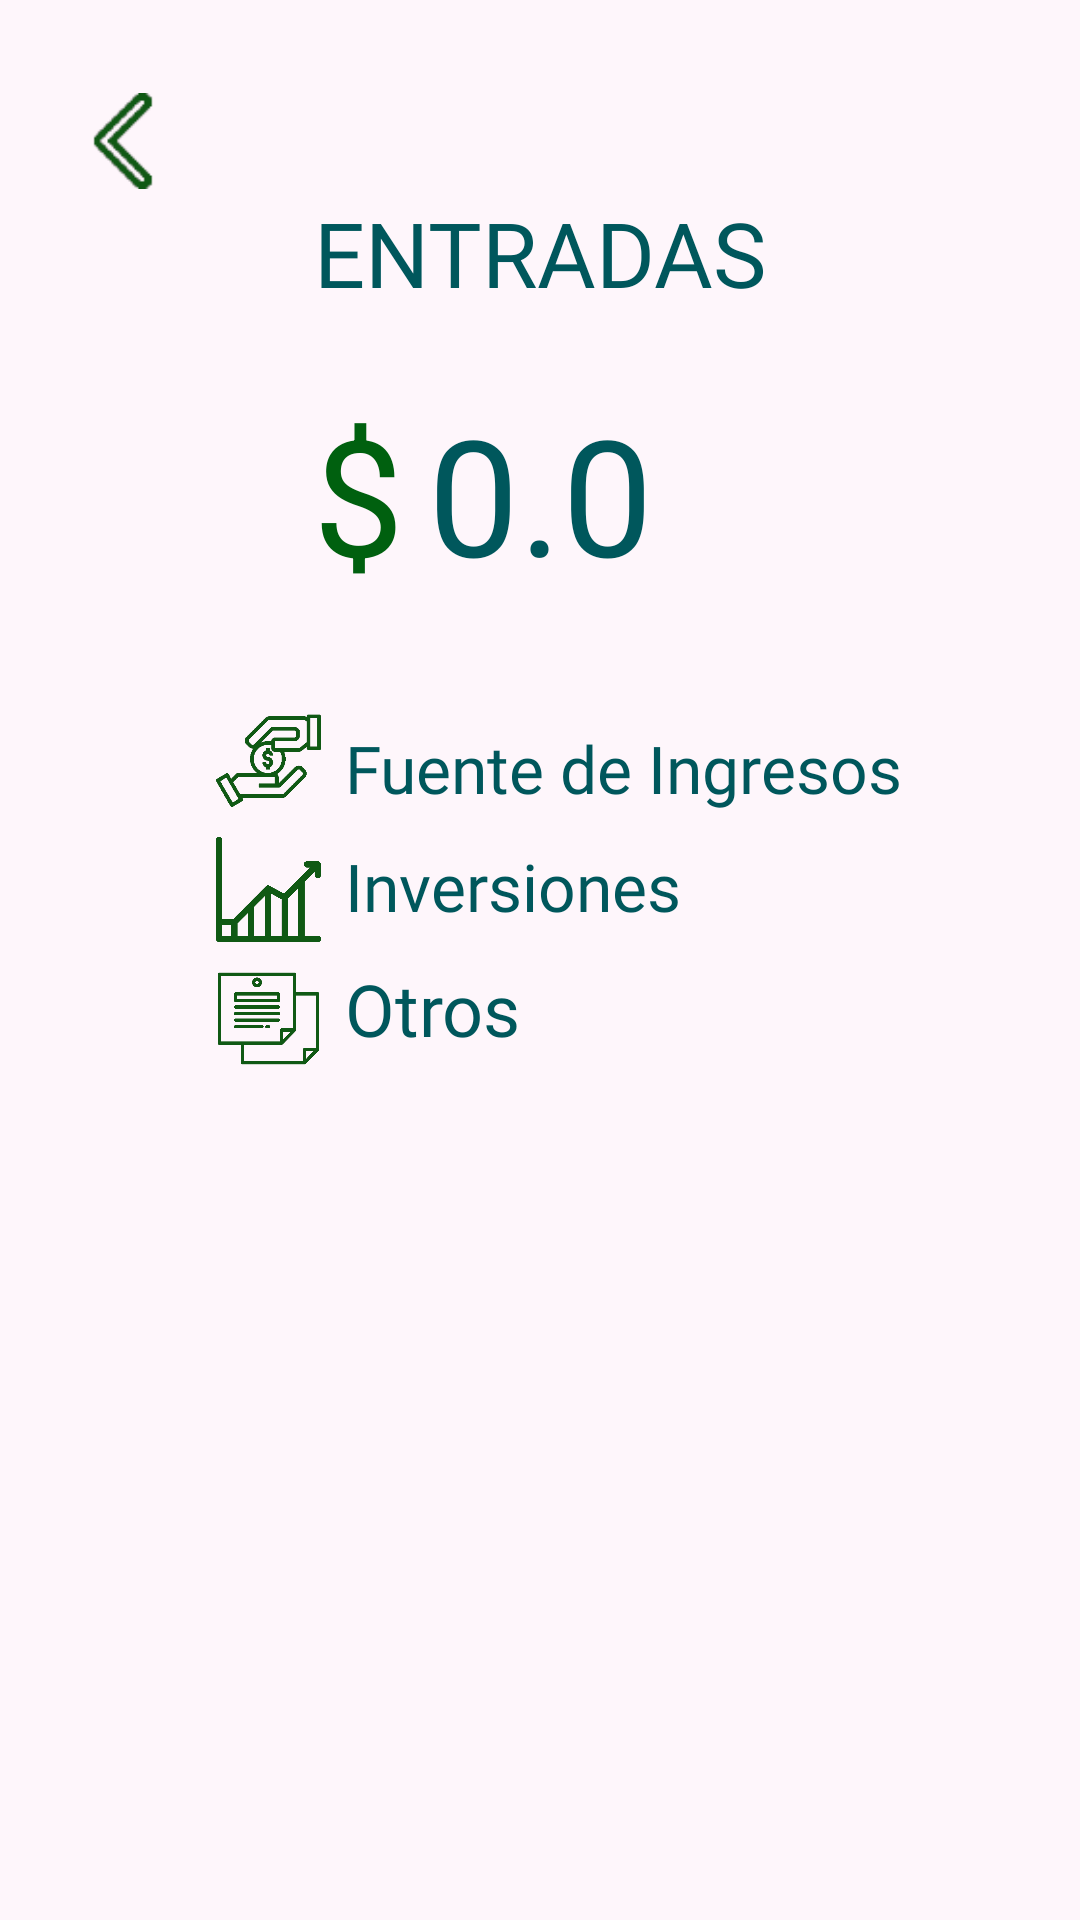

Where to tap for icons on this 1080px×1920px app screen, as (x=x, y=y):
aainvesmant: (x=268, y=889)
afingresos: (x=268, y=760)
flecha: (x=123, y=141)
